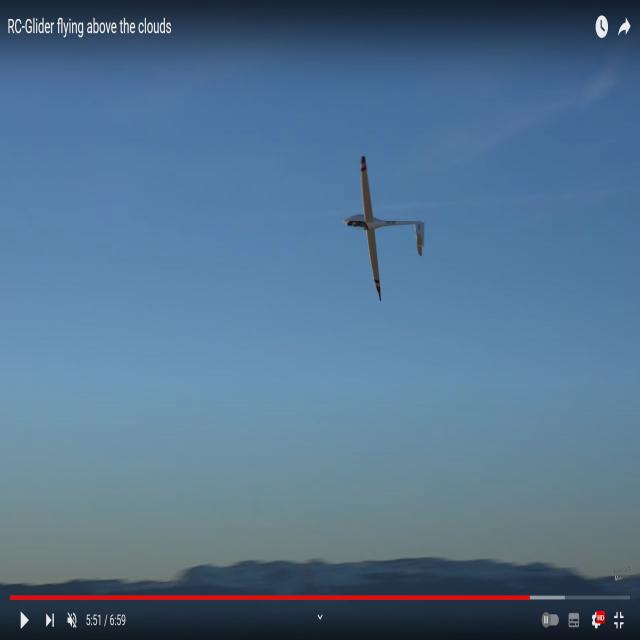iha: (374, 155, 395, 301)
